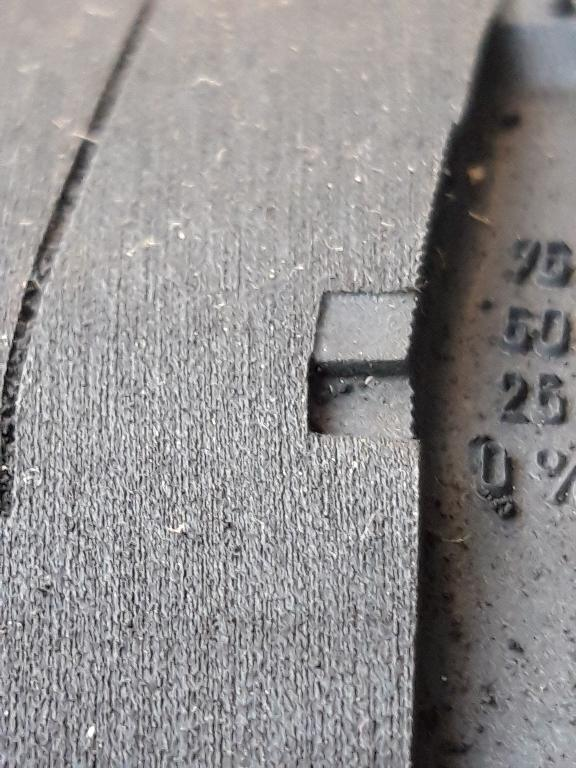temoin:25: (292, 274, 443, 458)
